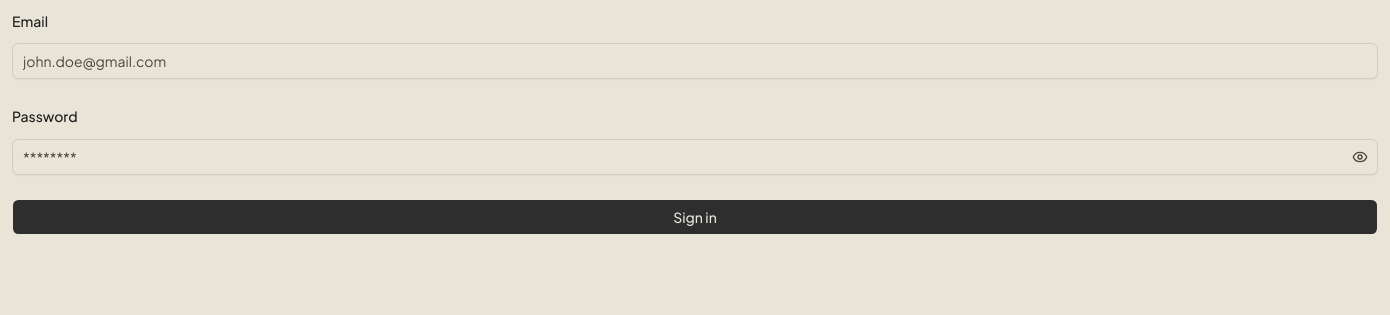
Scenario: LoginForm › should validate form and show error for empty fields on submit
This screenshot has width=1390, height=315.
Click the button "Sign in" at (695, 216), box [12, 198, 1378, 234]
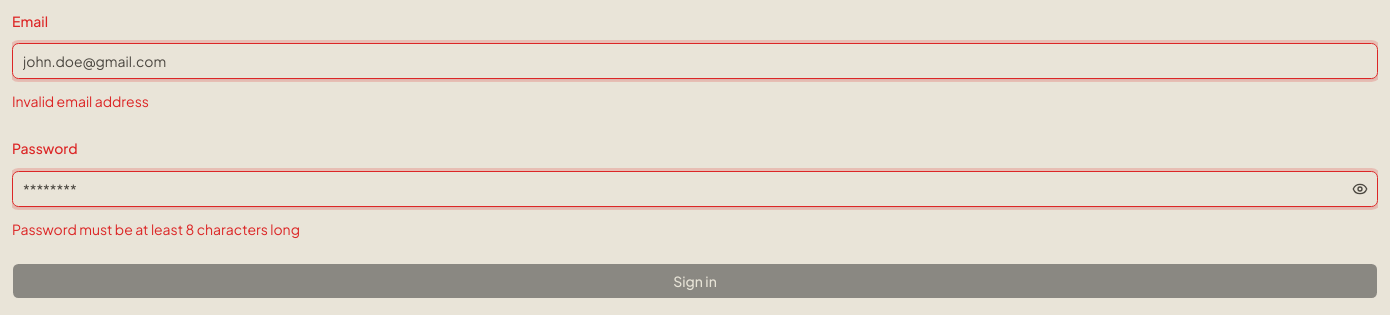
Now the text "Invalid email address" is shown, box [12, 92, 149, 110]
Now the text "Password must be at least 8 characters long" is shown, box [12, 220, 300, 238]
